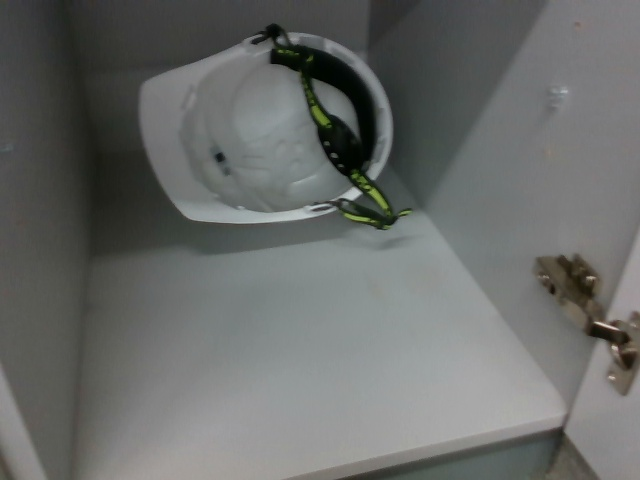helmet: (133, 32, 399, 228)
